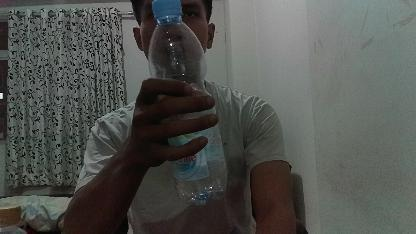Plastic Bottle: (148, 2, 230, 206)
